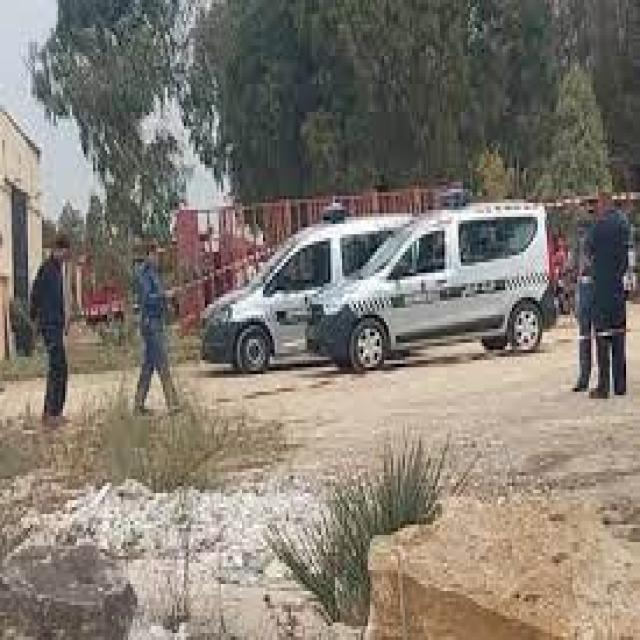gendarme car: (316, 185, 558, 366), (193, 197, 412, 374)
